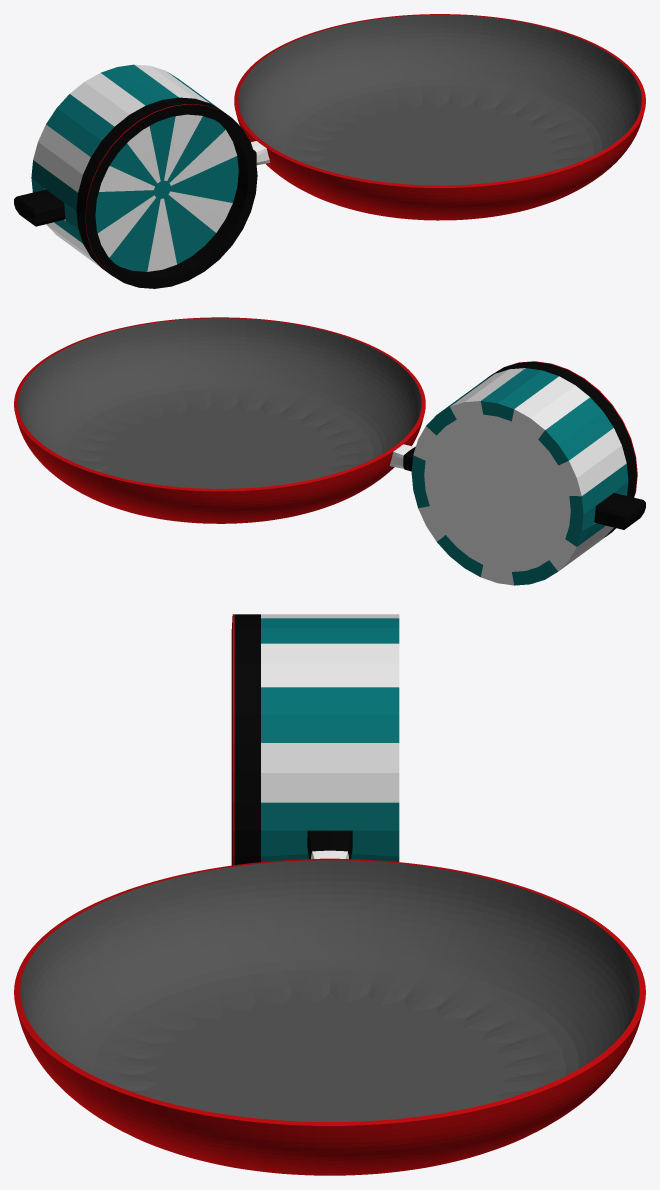
Rendered from frying_pan_attachment.dae.
The picture shows the model from 3 angles, top to bottom: view 1: azimuth 30°, elevation 25°; view 2: azimuth 150°, elevation 25°; view 3: azimuth 270°, elevation 25°; orthographic projection. The views are drawn at different scales.
Visible parts, largest first — view 1: Sphere_Sphere.001, Circle; view 2: Sphere_Sphere.001, Circle; view 3: Sphere_Sphere.001, Circle.
Boxes of the visible parts, x1,y1,x2,y2 form: Sphere_Sphere.001: (14,14,645,226); Circle: (31,64,257,288); Sphere_Sphere.001: (14,317,645,529); Circle: (411,361,637,585); Sphere_Sphere.001: (14,830,645,1175); Circle: (231,614,399,865).
Bounding box in the file's own units: 0.2603 × 0.1559 × 0.0751.
